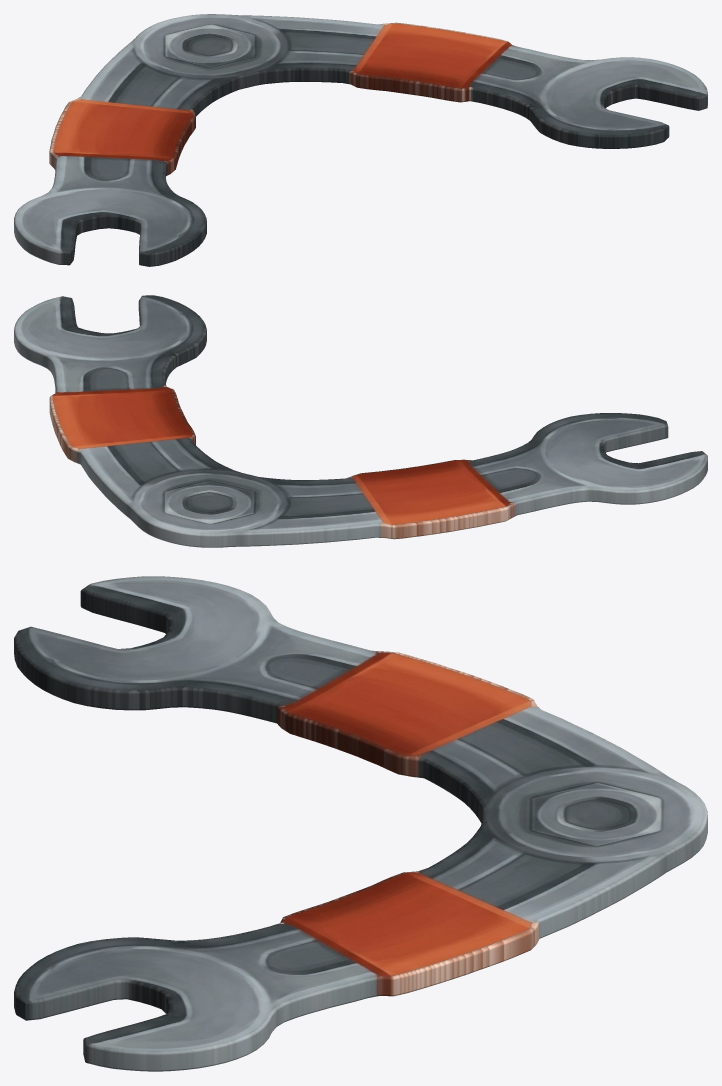
The model's file is Boomerang_29.fbx.
3 renders of one model, top to bottom at view 1: azimuth 30°, elevation 25°; view 2: azimuth 150°, elevation 25°; view 3: azimuth 270°, elevation 25°, orthographic. The views are drawn at different scales.
Parts seen in each view (by area): view 1: Boomerang_29; view 2: Boomerang_29; view 3: Boomerang_29.
Boxes of the visible parts, x1,y1,x2,y2 form: Boomerang_29: [14, 14, 707, 266]; Boomerang_29: [14, 295, 707, 547]; Boomerang_29: [14, 576, 707, 1071].
Size of the model in its own units: 210 by 4 by 129.
Materials: 1 (1 with a texture image).
